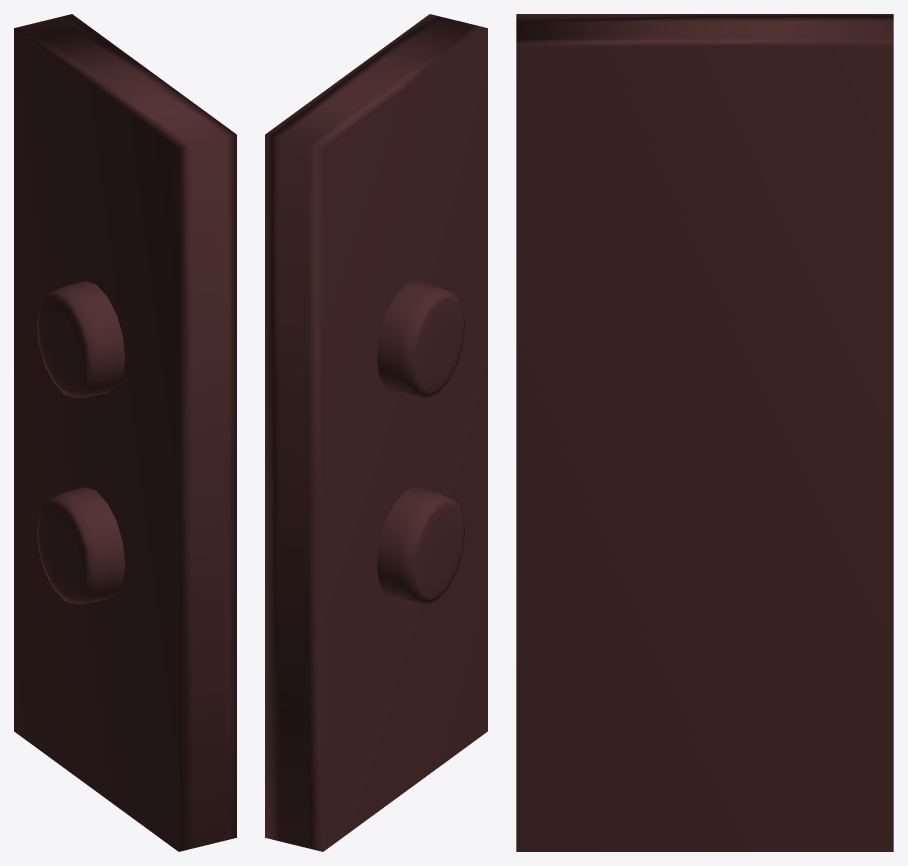
The model's file is MOD_ELEVATOR ExteriorButtons.fbx.
3 views of the same model, side by side, from view 1: azimuth 30°, elevation 25°; view 2: azimuth 150°, elevation 25°; view 3: azimuth 270°, elevation 25° (orthographic). The views are drawn at different scales.
Visible parts, largest first — view 1: buttonPlate, buttonDown, buttonUp; view 2: buttonPlate, buttonDown, buttonUp; view 3: buttonPlate.
Part boxes in pixels (left/top/right/bottom): buttonPlate: left=14, top=14, right=236, bottom=851; buttonDown: left=37, top=487, right=125, bottom=604; buttonUp: left=37, top=281, right=125, bottom=397; buttonPlate: left=265, top=14, right=487, bottom=851; buttonDown: left=376, top=487, right=464, bottom=604; buttonUp: left=376, top=281, right=464, bottom=397; buttonPlate: left=516, top=14, right=893, bottom=851.
Size of the model in its own units: 5.83 by 42.19 by 17.9.
